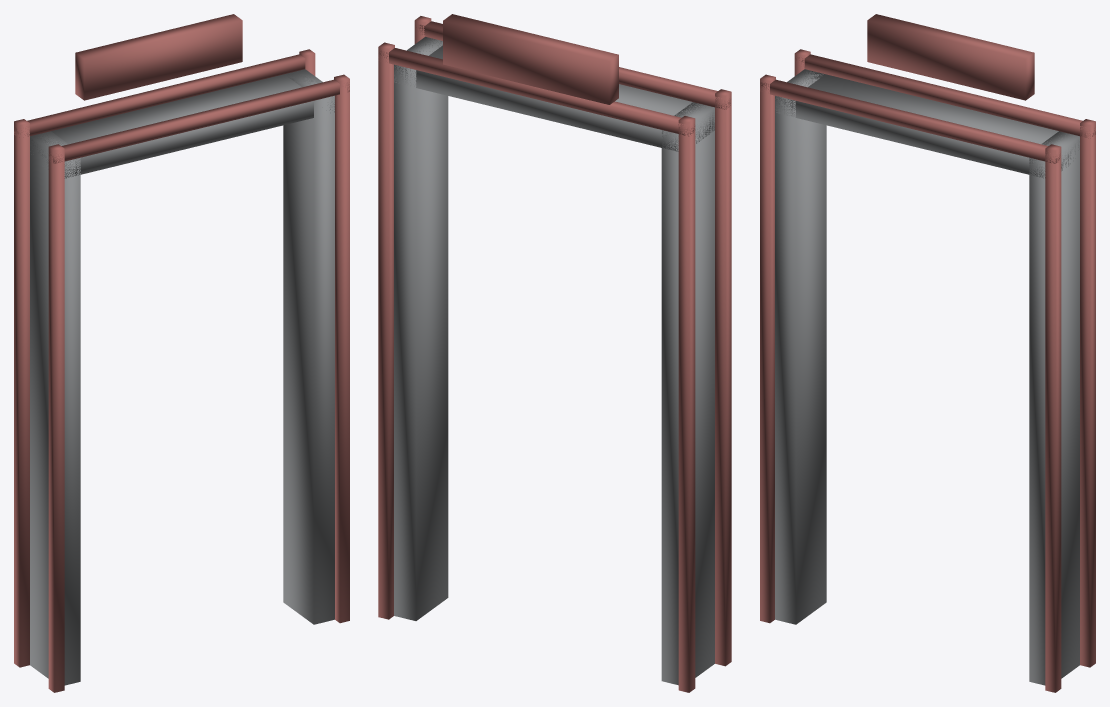
File: doorway_emergency_exit_w106_h220_d24.glb
3 views of the same model, side by side, from view 1: azimuth 30°, elevation 25°; view 2: azimuth 150°, elevation 25°; view 3: azimuth 330°, elevation 25° (orthographic). The views are drawn at different scales.
Visible parts, largest first — view 1: world; view 2: world; view 3: world.
Boxes of the visible parts, <box> form: world: <box>14,14,349,692</box>; world: <box>378,14,731,692</box>; world: <box>760,14,1095,692</box>.
Size of the model in its own units: 1.34 by 2.56 by 0.3739.
